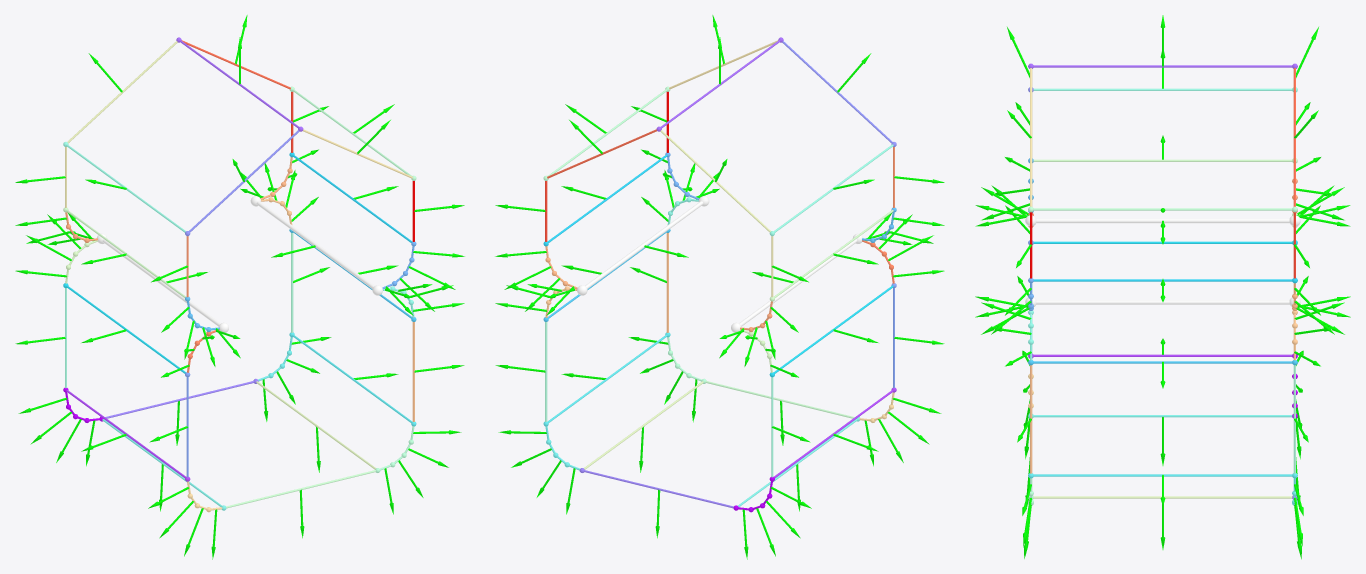
File: onshape_house.gltf
3 views of the same model, side by side, from view 1: azimuth 30°, elevation 25°; view 2: azimuth 150°, elevation 25°; view 3: azimuth 270°, elevation 25° (orthographic). The views are drawn at different scales.
Size of the model in its own units: 0.6888 by 0.9436 by 0.6511.
